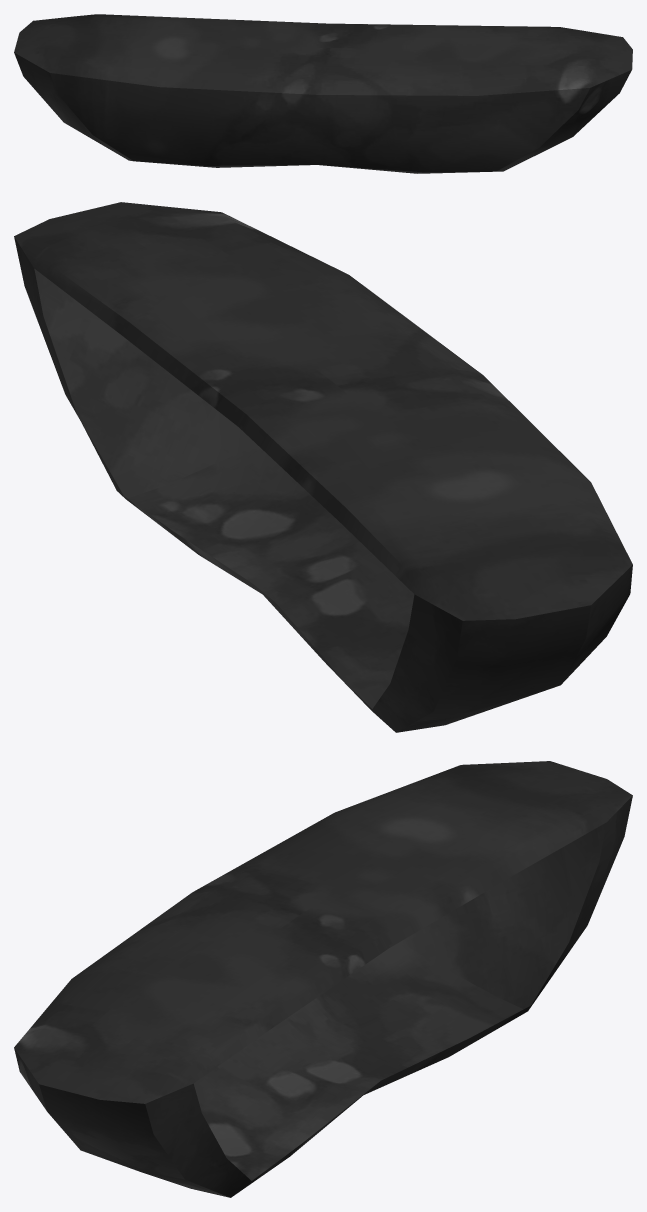
Rendered from Underwater_platform_2.fbx.
3 views of the same model, one above another, from view 1: azimuth 30°, elevation 25°; view 2: azimuth 150°, elevation 25°; view 3: azimuth 270°, elevation 25° (orthographic). The views are drawn at different scales.
Visible parts, largest first — view 1: Underwater_Platform_2; view 2: Underwater_Platform_2; view 3: Underwater_Platform_2.
Boxes of the visible parts, x1,y1,x2,y2 form: Underwater_Platform_2: (14, 14, 632, 173); Underwater_Platform_2: (14, 202, 632, 732); Underwater_Platform_2: (14, 761, 632, 1197).
Bounding box in the file's own units: 844 × 208 × 645.
